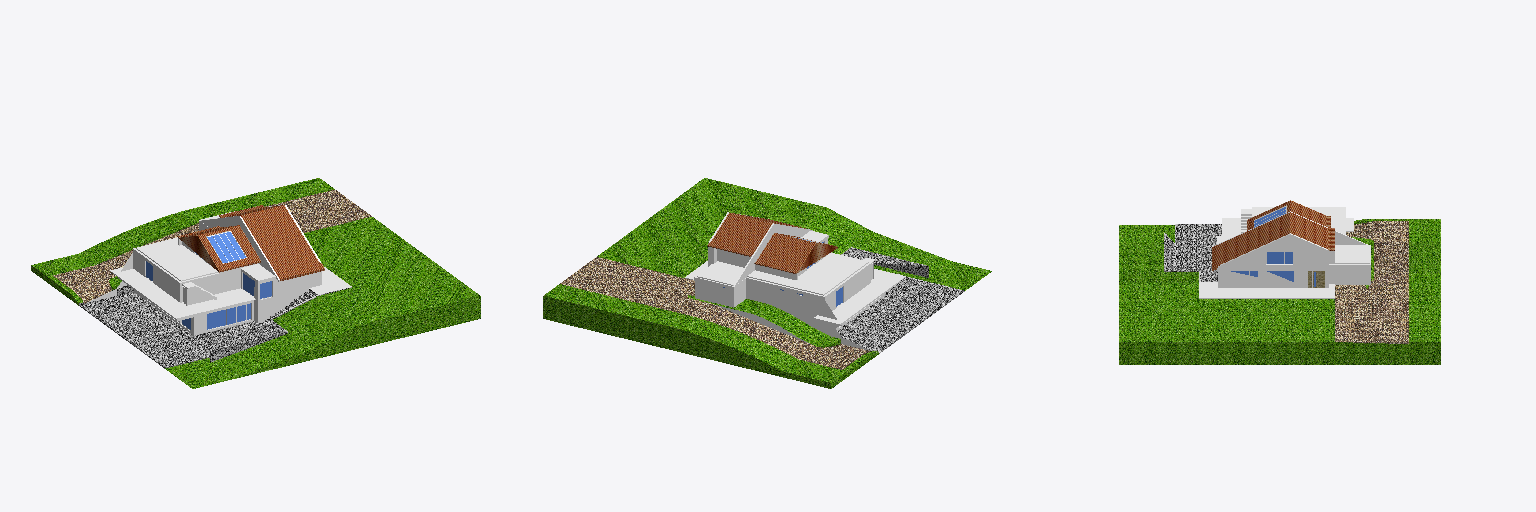
3 renders of one model, left to right at view 1: azimuth 30°, elevation 25°; view 2: azimuth 150°, elevation 25°; view 3: azimuth 270°, elevation 25°, orthographic.
Visible parts, largest first — view 1: Mesh1 Model; view 2: Mesh1 Model; view 3: Mesh1 Model.
Boxes of the visible parts, box(x1,y1,x2,y2) form: Mesh1 Model: box(31, 178, 480, 388); Mesh1 Model: box(543, 178, 991, 388); Mesh1 Model: box(1119, 200, 1440, 364).
Bounding box in the file's own units: 38.69 × 10.03 × 37.55.
Materials: 23 (8 with a texture image).